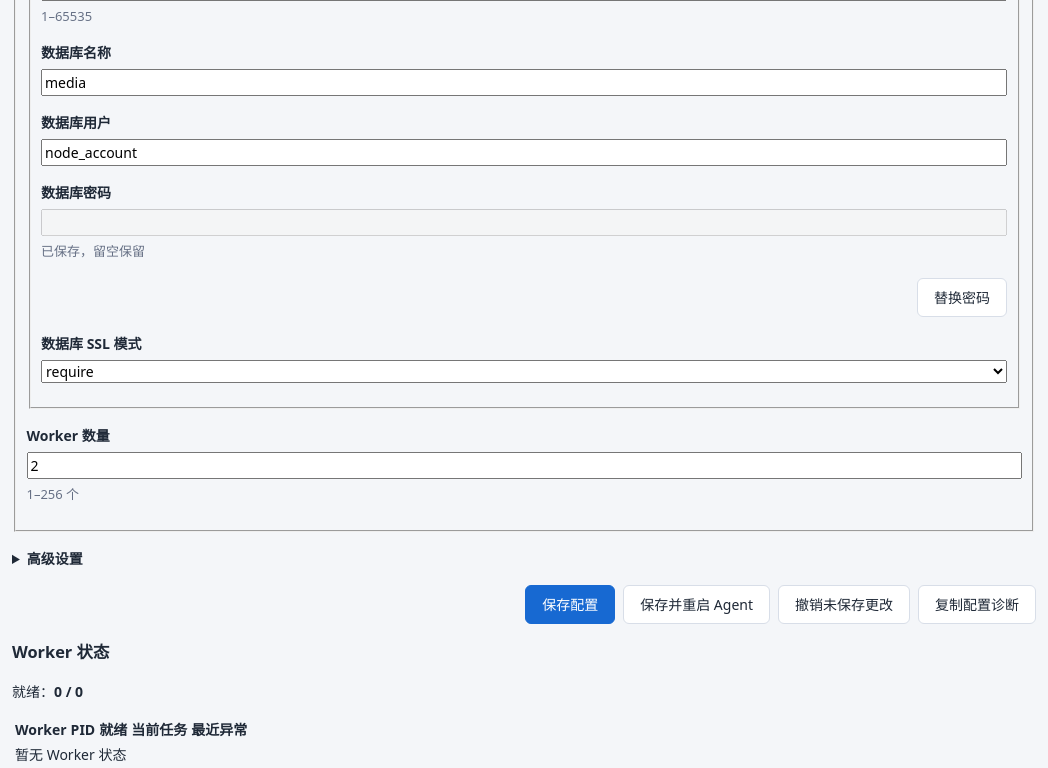
Test: AgentPage › Agent 未落盘时不刷新共享状态
The width and height of the screenshot is (1048, 768).
(page scrolled)
Click the button "保存配置": (570, 604) [525,585,615,624]
(page scrolled)
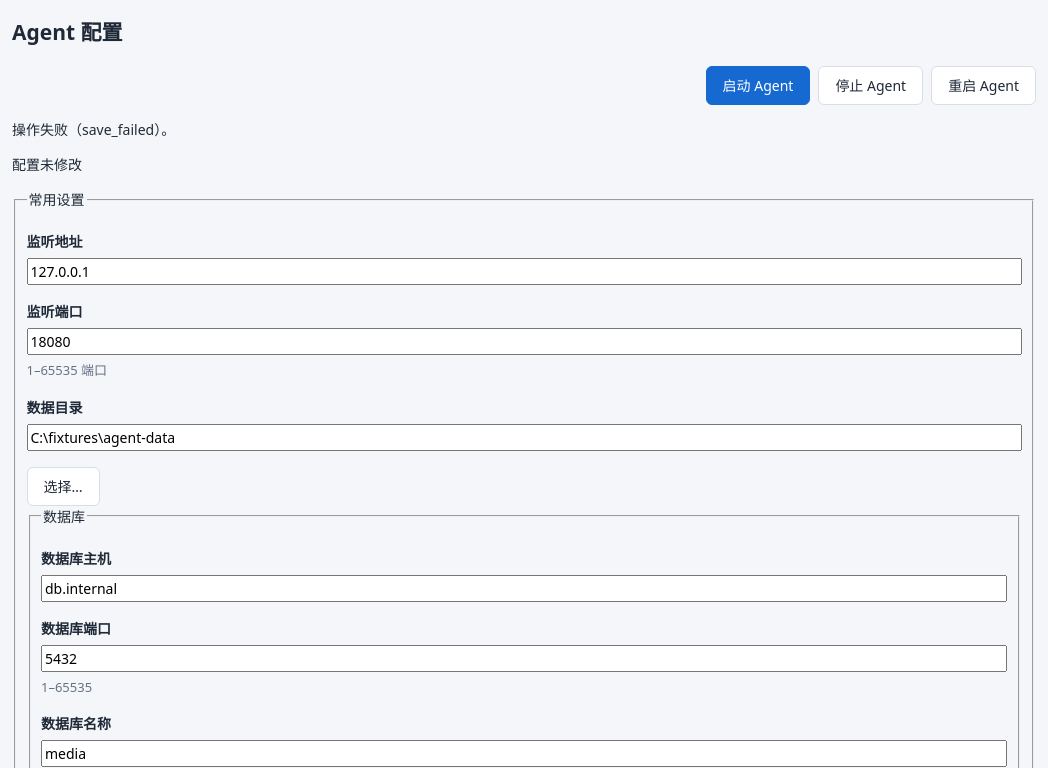
Now the message "操作失败（save_failed）。" is shown, box [12,120,175,139]
